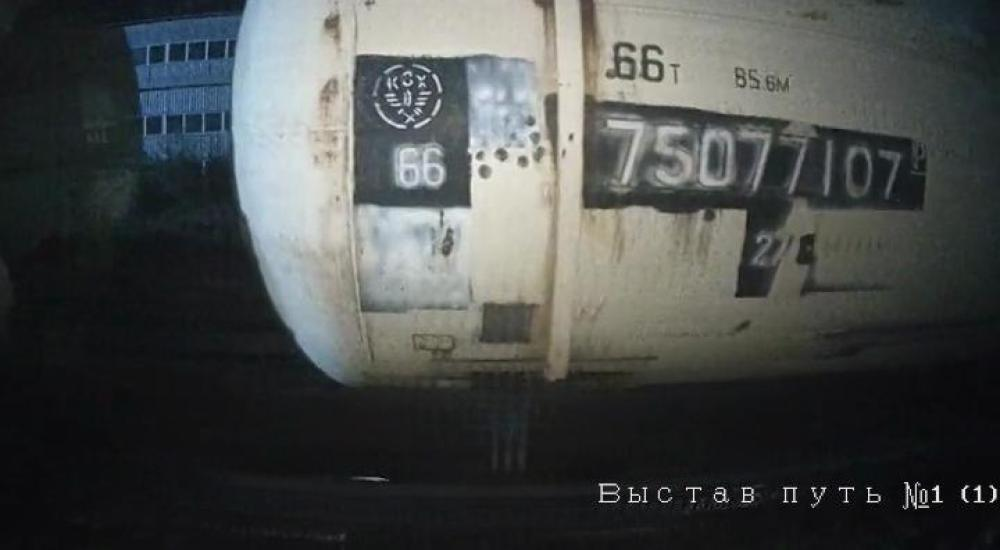Wagon-number: (600, 115, 906, 207)
